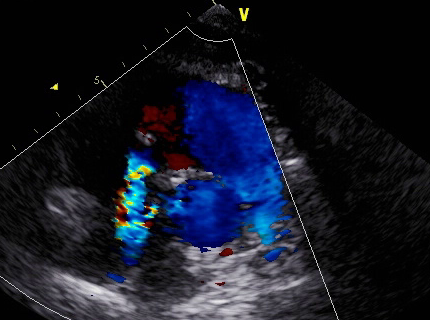TR: (96, 151, 186, 267)
